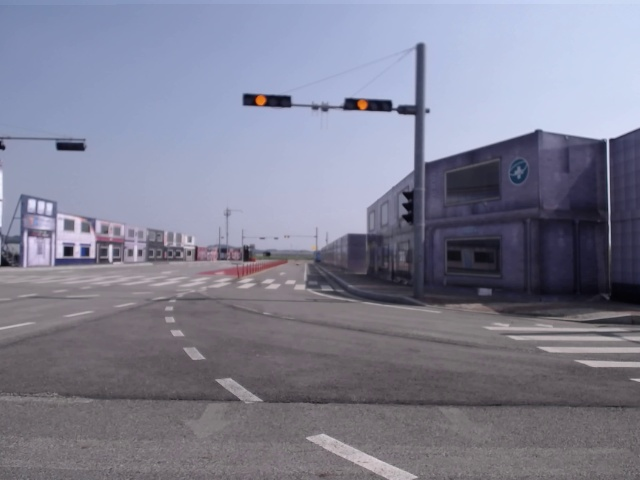orange_4: (243, 94, 291, 107), (344, 98, 390, 111)
